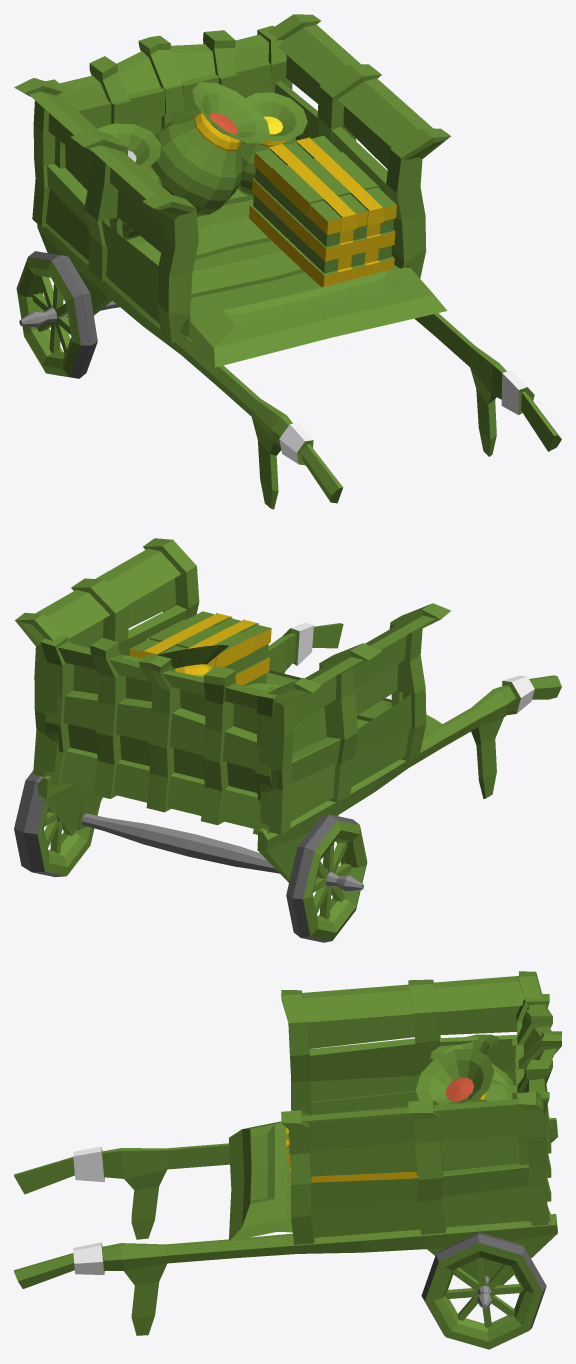
File: Building_LV1_Cargo_Green.fbx
3 renders of one model, top to bottom at view 1: azimuth 30°, elevation 25°; view 2: azimuth 150°, elevation 25°; view 3: azimuth 270°, elevation 25°, orthographic. The views are drawn at different scales.
Visible parts, largest first — view 1: CARGO_Green; view 2: CARGO_Green; view 3: CARGO_Green.
Boxes of the visible parts, x1,y1,x2,y2 form: CARGO_Green: [14, 14, 561, 509]; CARGO_Green: [14, 538, 561, 942]; CARGO_Green: [14, 971, 561, 1349].
Size of the model in its own units: 352 by 274 by 535.
Materials: 4 (4 with a texture image).
